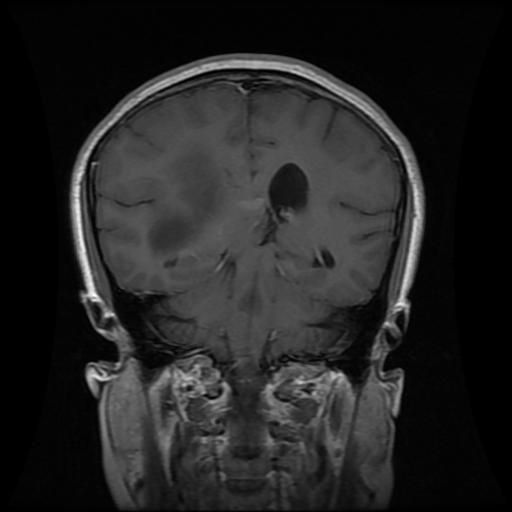Gliomia_tumour: (149, 147, 222, 253)
